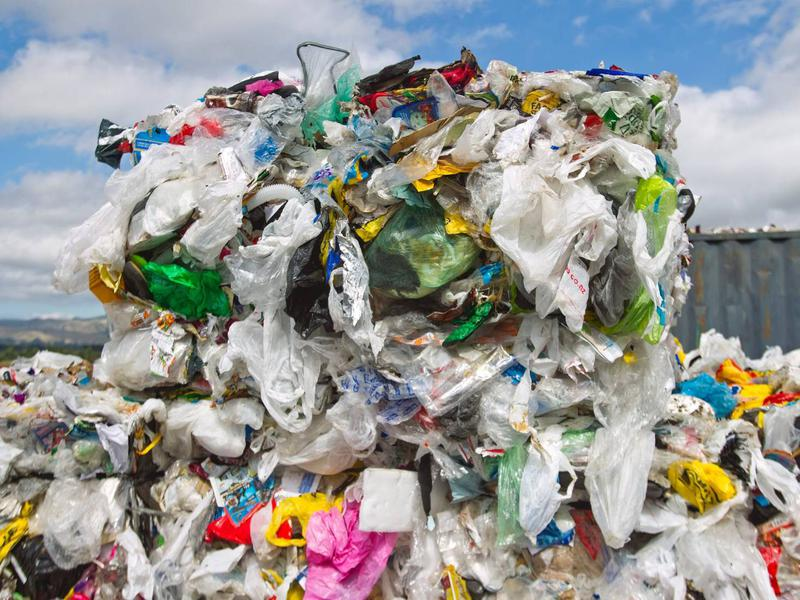plastic: (45, 144, 197, 292), (487, 163, 606, 292), (368, 327, 515, 420), (225, 312, 329, 438), (363, 204, 487, 304), (219, 198, 326, 311), (643, 520, 785, 600), (586, 413, 664, 554), (36, 446, 121, 569), (300, 502, 401, 600), (160, 394, 269, 471), (447, 111, 576, 167), (516, 431, 582, 539), (292, 34, 358, 141), (94, 332, 199, 388), (135, 262, 235, 320), (619, 175, 687, 260), (263, 484, 343, 553), (687, 327, 790, 380), (666, 449, 742, 518), (675, 372, 744, 421)
